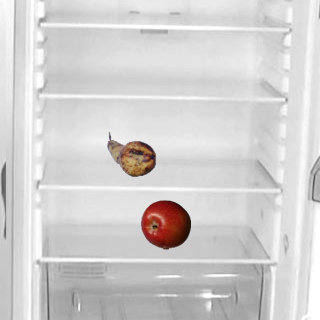Apple Braeburn: (140, 199, 190, 249)
Pear Abate: (106, 129, 156, 179)
